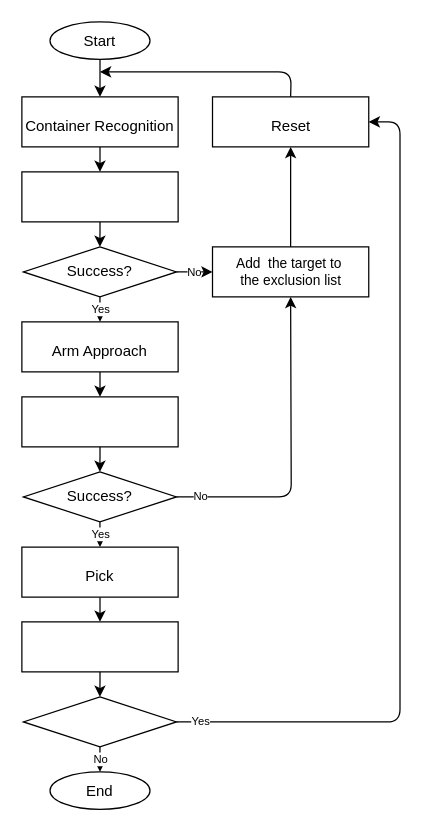
Image size: 433x831. Some labels were removed from this diagram. The box of each missing label's shape, as (x1, y1, x2, y2) in pixels:
Cabbage Selection: (21, 171, 178, 222)
Hand Pose Estimation: (21, 396, 178, 447)
Is there any cabbage?: (22, 696, 176, 747)
Place: (21, 621, 178, 672)
